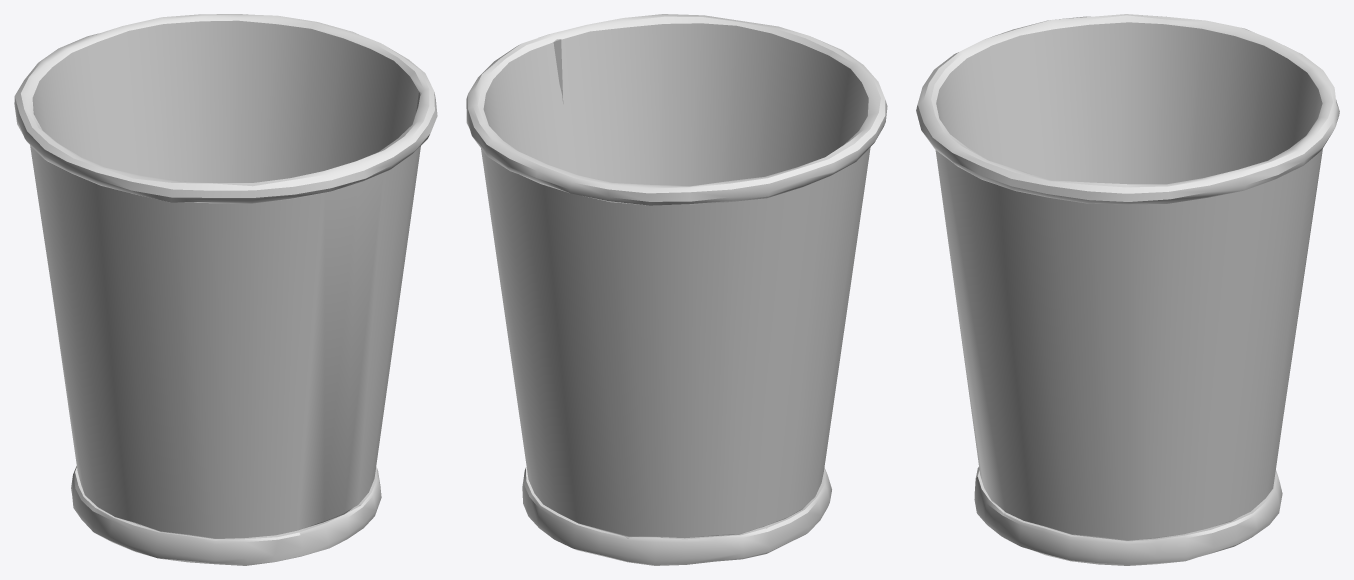
File: trashcan.fbx
The picture shows the model from 3 angles, left to right: view 1: azimuth 30°, elevation 25°; view 2: azimuth 150°, elevation 25°; view 3: azimuth 270°, elevation 25°; orthographic projection.
Parts seen in each view (by area): view 1: trashcan; view 2: trashcan; view 3: trashcan.
Boxes of the visible parts, x1,y1,x2,y2 form: trashcan: (14,14,437,565); trashcan: (466,14,887,565); trashcan: (916,14,1339,565).
Bounding box in the file's own units: 2.91 × 3.08 × 2.92.
2 materials, 1 textured.
